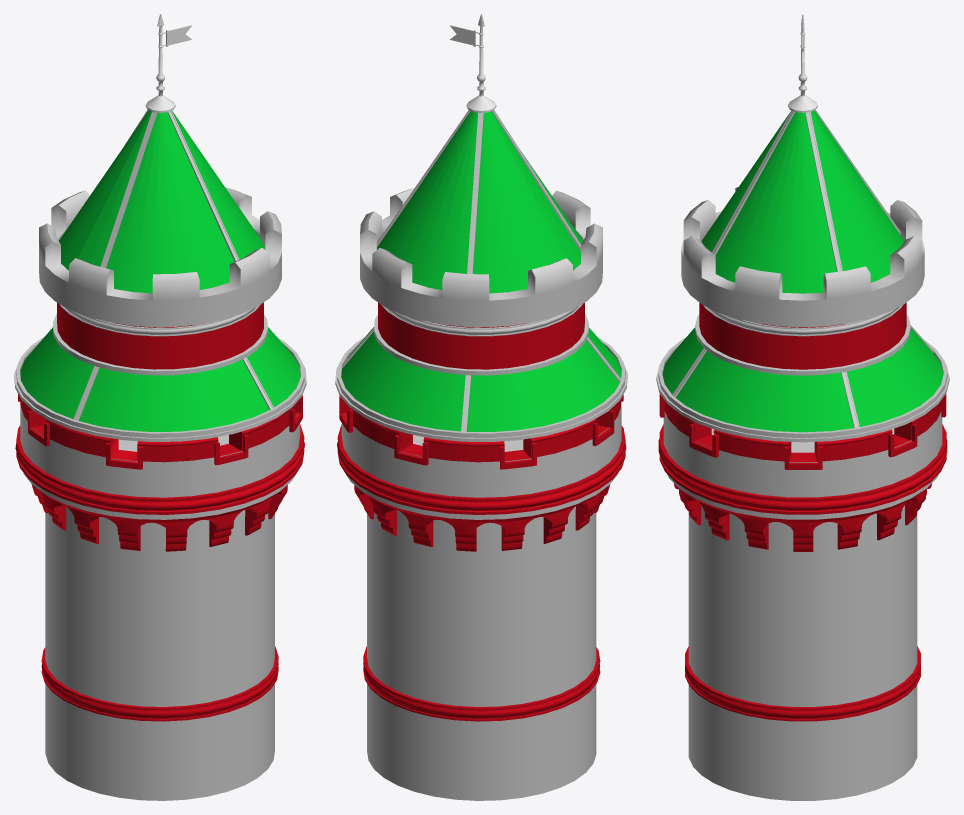
Rendered from Tower_Roff.fbx.
The picture shows the model from 3 angles, left to right: view 1: azimuth 30°, elevation 25°; view 2: azimuth 150°, elevation 25°; view 3: azimuth 270°, elevation 25°; orthographic projection.
Parts seen in each view (by area): view 1: Tower_1.003, Group_1.000, Group_4.007; view 2: Tower_1.003, Group_1.000, Group_4.007; view 3: Tower_1.003, Group_1.000, Group_4.007.
Boxes of the visible parts, x1,y1,x2,y2 form: Tower_1.003: (15,394,304,800); Group_1.000: (14,110,306,441); Group_4.007: (145,14,192,112); Tower_1.003: (337,394,626,800); Group_1.000: (335,110,627,441); Group_4.007: (450,14,496,112); Tower_1.003: (658,393,947,800); Group_1.000: (656,110,949,442); Group_4.007: (788,14,817,112).
Size of the model in its own units: 824 by 2289 by 824.
